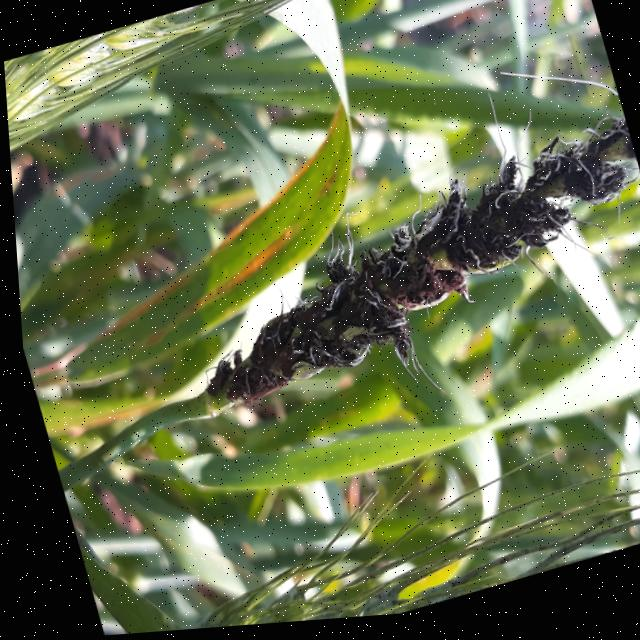loose_charred: (74, 76, 640, 486), (112, 445, 640, 635)
yellow_rust: (5, 67, 410, 402)
